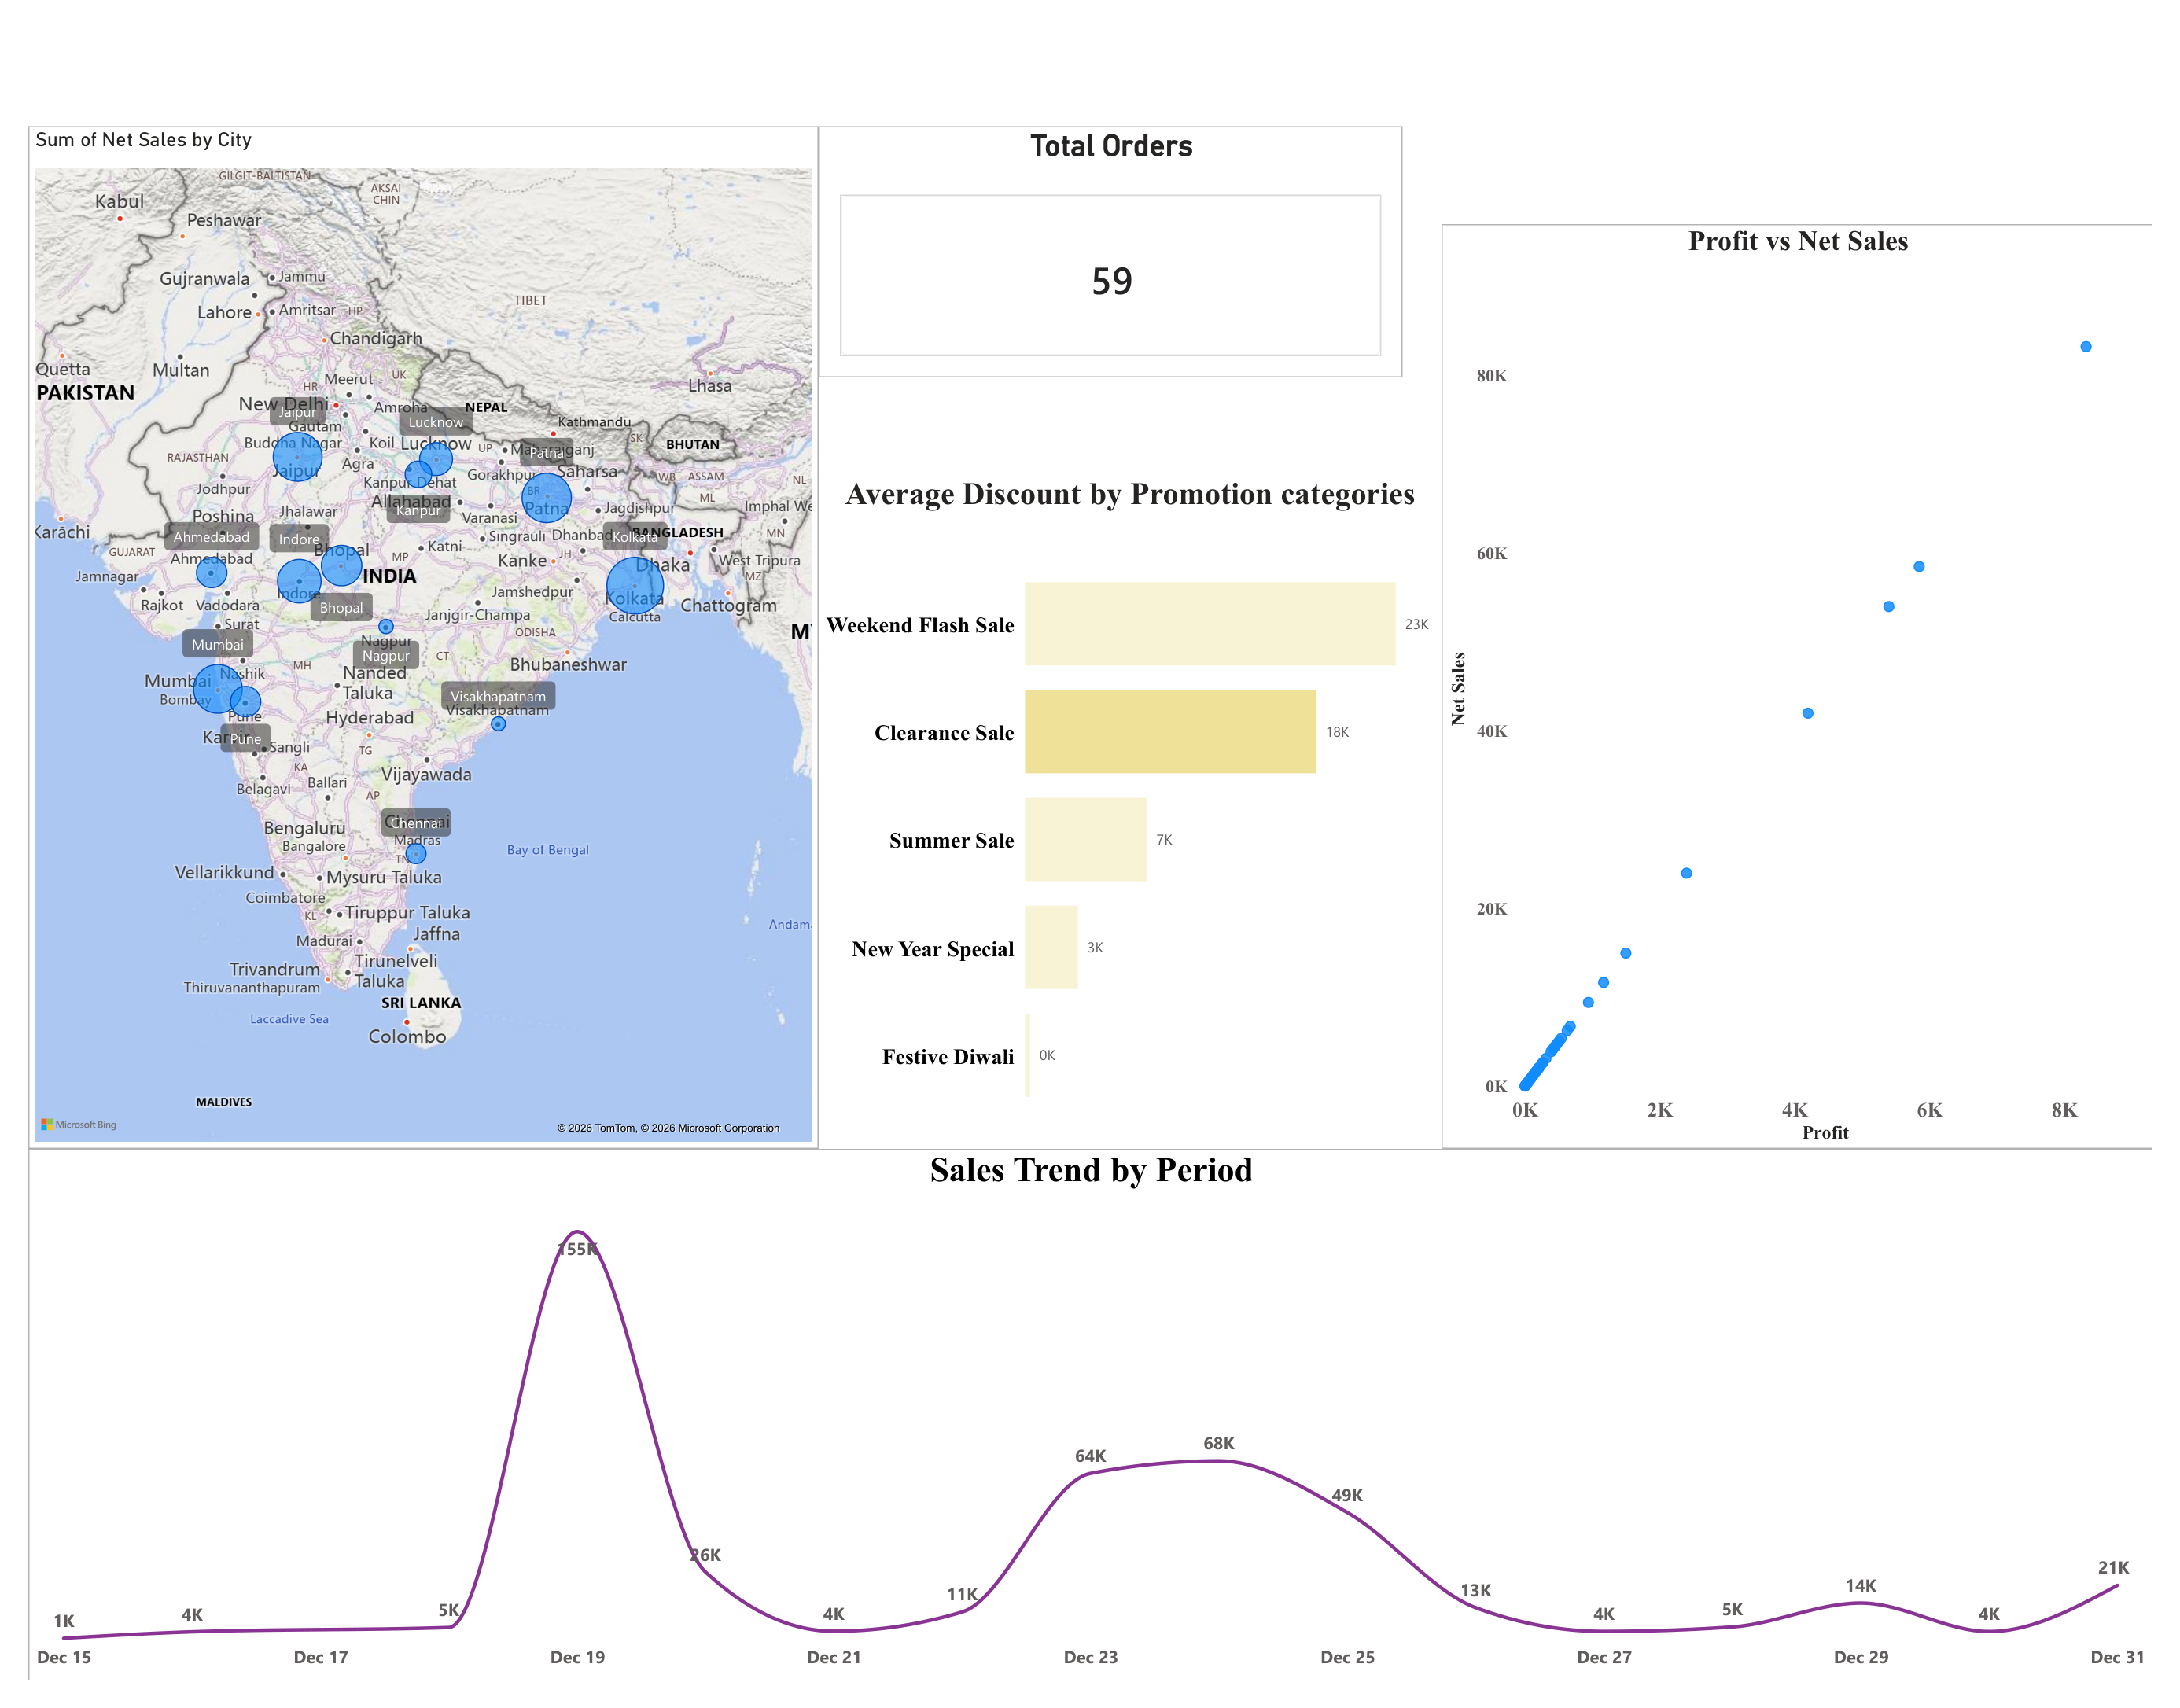

This screenshot's page, from the dashboard's own definition file:
{"tool":"powerbi","page":{"name":"Overview","canvas":[1800,1400],"ordinal":1},"visuals":[{"type":"lineChart","title":"Sales Trend by Period","fields":{"Y":["Sum(Fact Table.Net Sales  )"],"Category":["Fact Table.Date (dd/mm/yyyy).Variation.Date Hierarchy.Year"]},"box":[0,949.8,1801,452.5],"z":0},{"type":"scatterChart","title":"Profit vs Net Sales  ","fields":{"X":["Fact Table.Profit"],"Y":["Fact Table.Net Sales  "]},"box":[1198.4,165.8,602.6,784],"z":1000},{"type":"barChart","title":"Average Discount by Promotion categories","fields":{"Y":["Avg(Fact Table.Discount)"],"Category":["Dim Promotion.Promotion Name"]},"box":[669.8,378.6,528.6,571.2],"z":2000},{"type":"map","fields":{"Category":["Dim Customers.City"],"Size":["Sum(Fact Table.Net Sales  )"]},"box":[0,82.5,670,867.5],"z":3000},{"type":"cardVisual","title":"Total Orders","fields":{"Data":["Count(Fact Table.Order id)"]},"box":[669.8,82.9,495,212.8],"z":4000}]}

Visuals, with their boxes in screenshot pixels (x1, y1, x2, y2), scaled from the page's 1800x1400 canvas onto the 2180x1708 screenshot:
"Sales Trend by Period" lineChart: bbox=(0, 1159, 2179, 1707)
"Profit vs Net Sales  " scatterChart: bbox=(1452, 202, 2179, 1159)
"Average Discount by Promotion categories" barChart: bbox=(811, 462, 1452, 1159)
map - Dim Customers.City x Sum(Fact Table.Net Sales  ): bbox=(0, 101, 812, 1159)
"Total Orders" cardVisual: bbox=(811, 101, 1411, 361)
